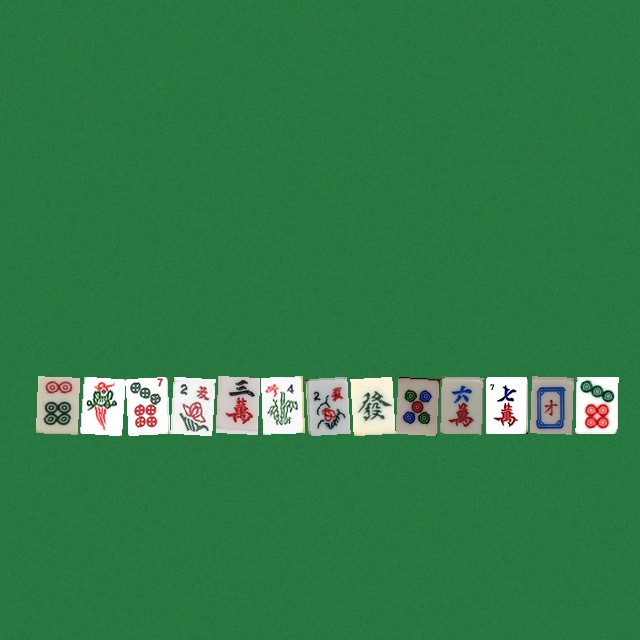tile: (35, 376, 77, 433), (80, 376, 122, 433), (125, 376, 167, 433), (170, 376, 212, 433), (215, 376, 257, 433), (260, 376, 302, 433), (305, 376, 347, 433), (350, 376, 392, 433), (395, 376, 437, 433), (440, 376, 482, 433), (485, 376, 527, 433), (530, 376, 572, 433), (575, 376, 617, 433)
